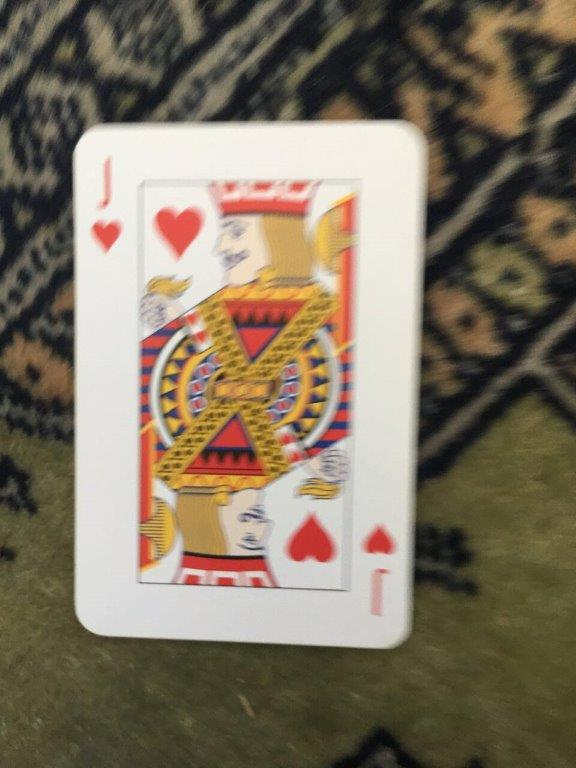JH: (68, 116, 434, 656)
